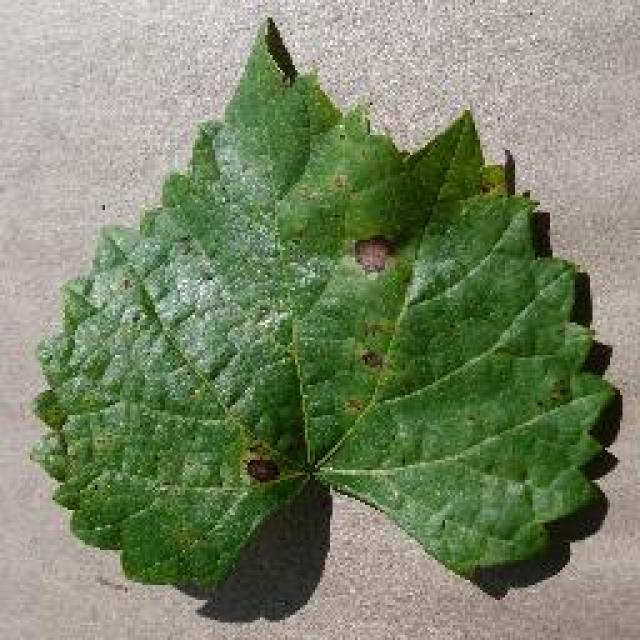Grape___Black_rot: (20, 16, 620, 595)
